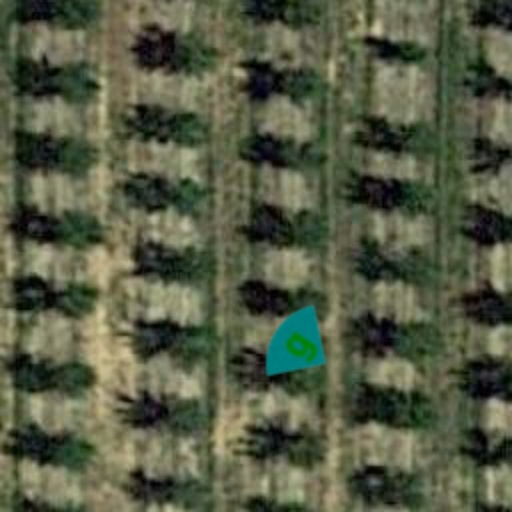quarter_circle: (240, 288, 352, 400)
